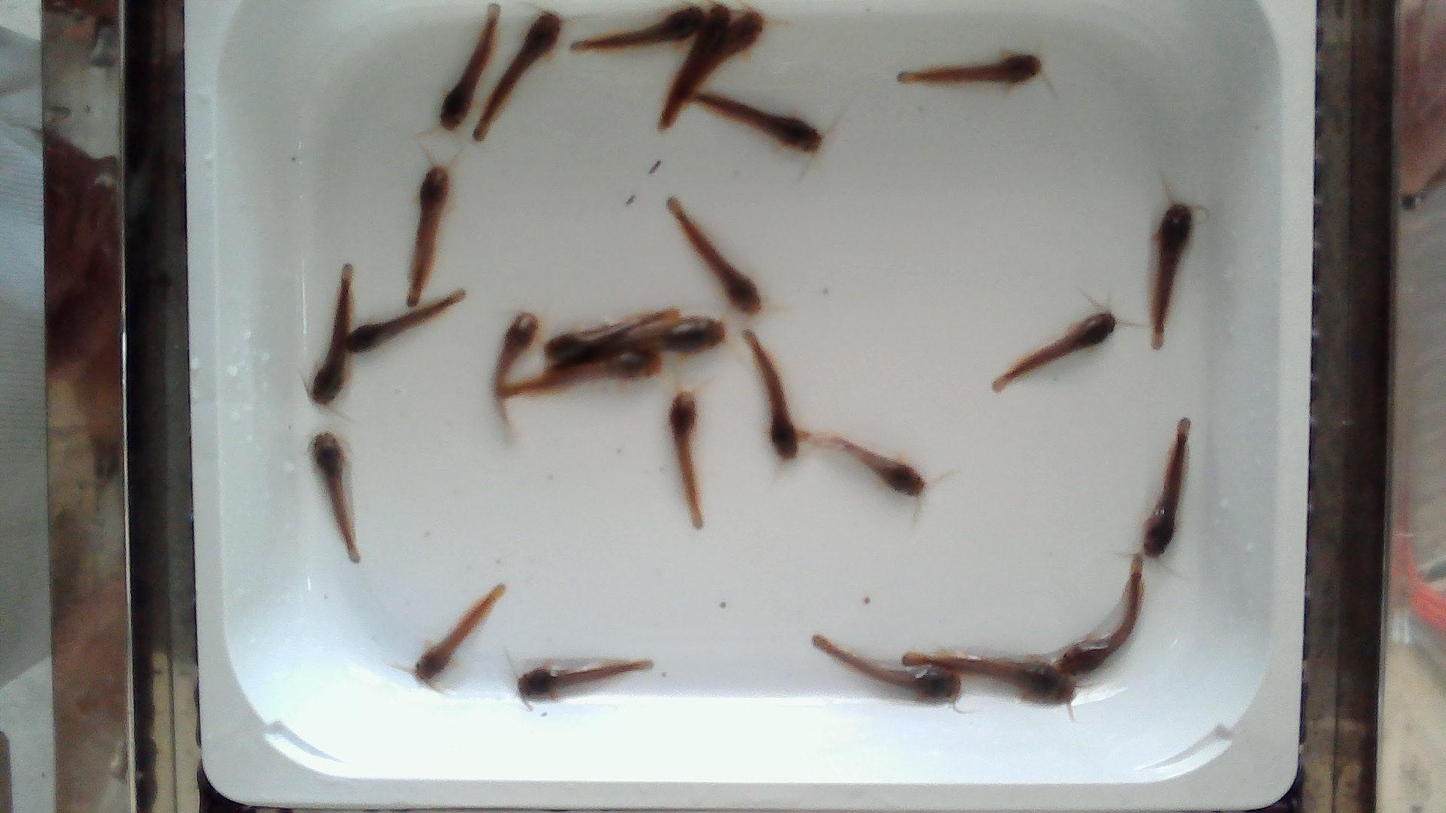lele: (473, 12, 561, 140), (668, 198, 761, 313), (1057, 556, 1141, 676), (992, 310, 1116, 391), (901, 649, 1077, 706), (813, 635, 959, 699), (659, 6, 731, 130), (415, 586, 505, 682), (496, 347, 661, 399), (682, 11, 766, 112), (801, 431, 926, 497), (688, 93, 821, 152), (744, 331, 799, 460), (347, 291, 465, 351), (545, 310, 678, 361), (1143, 419, 1188, 557), (569, 5, 706, 50), (313, 432, 360, 562), (578, 320, 726, 361), (407, 166, 450, 306), (493, 312, 541, 437), (311, 263, 353, 404), (1152, 202, 1192, 349), (441, 20, 494, 129), (518, 659, 653, 700), (669, 391, 703, 528), (898, 53, 1042, 85)
